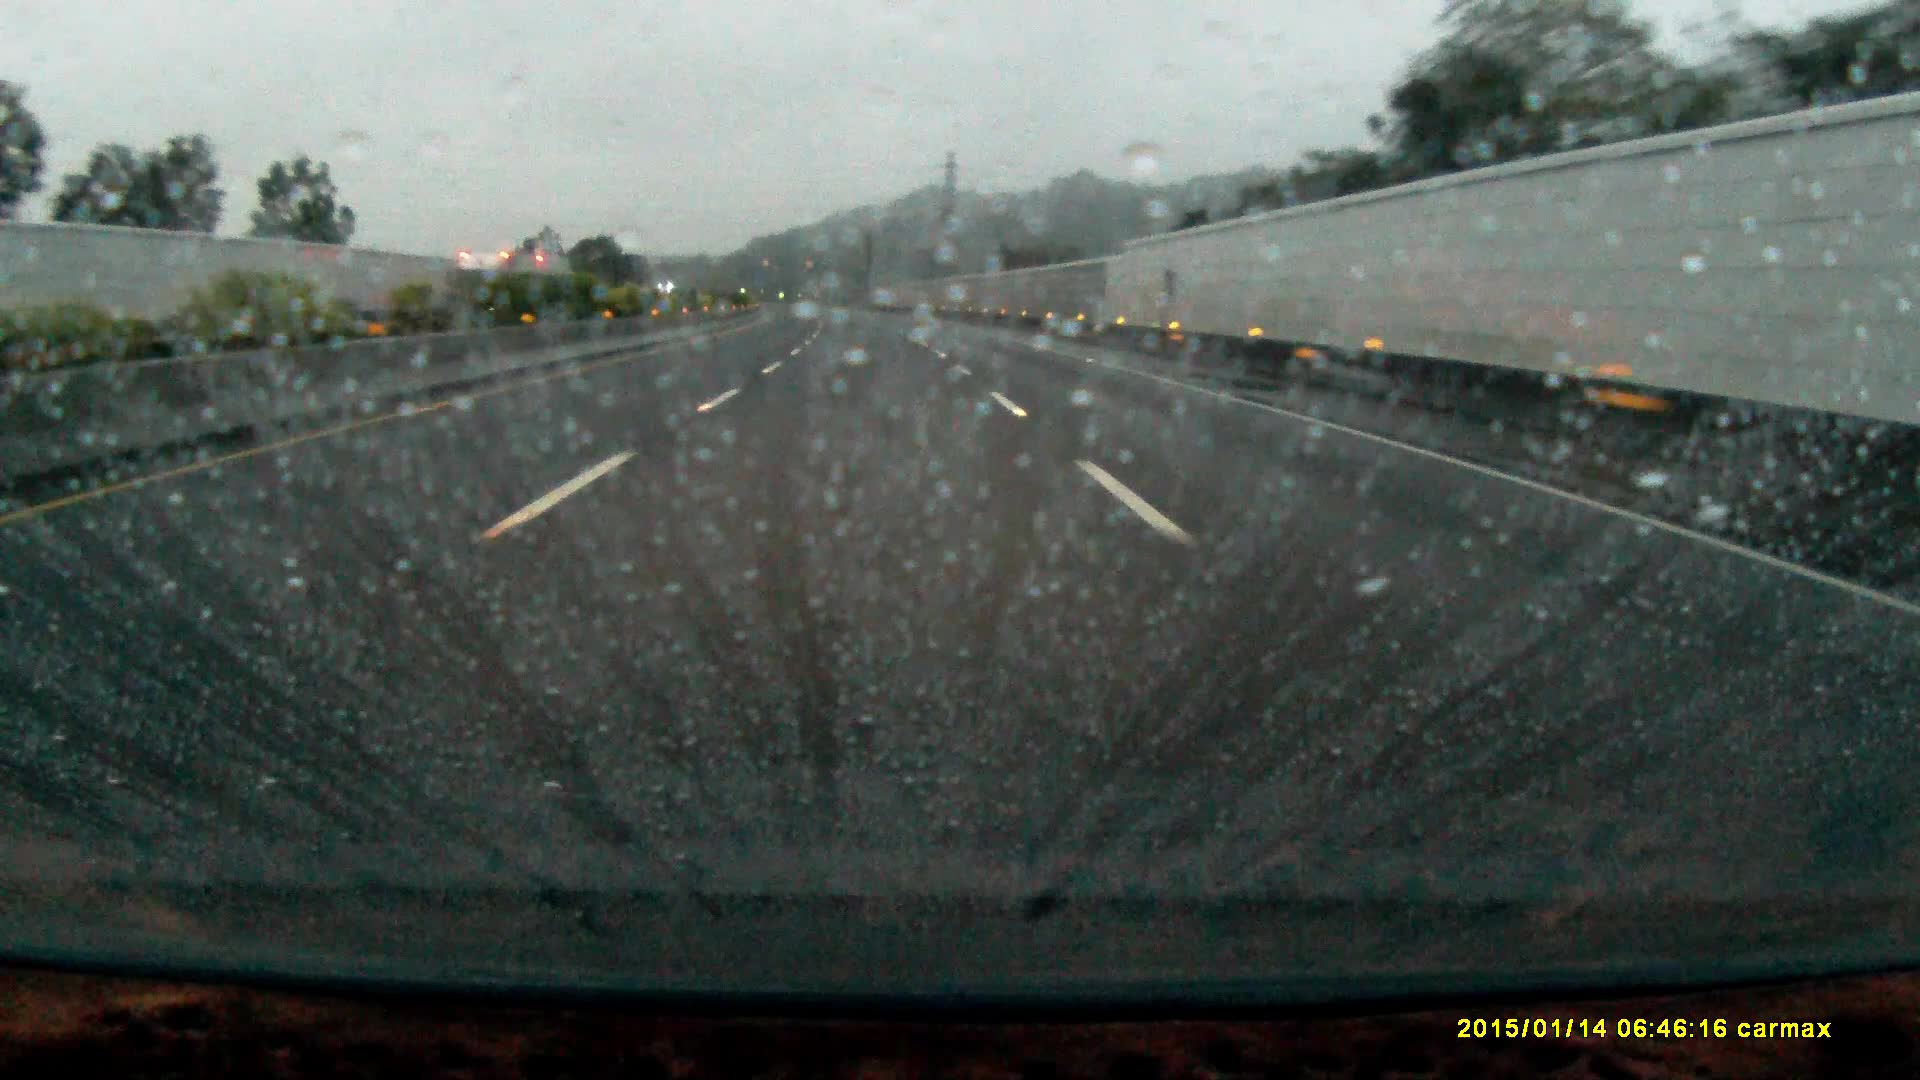vehicle: (448, 245, 566, 316)
